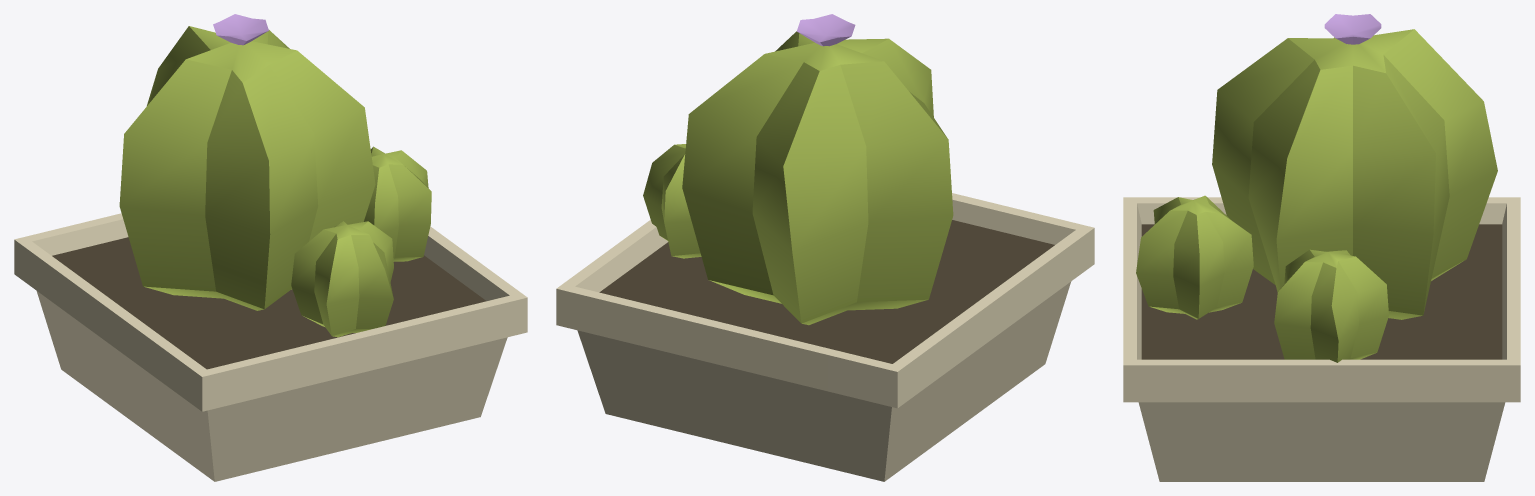
The model's file is plant02_05.gltf.
3 views of the same model, side by side, from view 1: azimuth 30°, elevation 25°; view 2: azimuth 150°, elevation 25°; view 3: azimuth 270°, elevation 25° (orthographic). The views are drawn at different scales.
Visible parts, largest first — view 1: plant02_stage01:pot, pCylinder1, plant02_stage01:dirt, EXTRA, EXTRA1, pCone1; view 2: plant02_stage01:pot, pCylinder1, plant02_stage01:dirt, EXTRA1, pCone1; view 3: pCylinder1, plant02_stage01:pot, plant02_stage01:dirt, EXTRA, EXTRA1, pCone1.
Boxes of the visible parts, box(x1,y1,x2,y2) form: plant02_stage01:pot: box(14, 213, 527, 481); pCylinder1: box(119, 26, 375, 310); plant02_stage01:dirt: box(52, 237, 486, 369); EXTRA: box(291, 221, 393, 337); EXTRA1: box(364, 146, 431, 261); pCone1: box(213, 14, 268, 45); plant02_stage01:pot: box(556, 193, 1094, 481); pCylinder1: box(682, 31, 953, 325); plant02_stage01:dirt: box(599, 220, 1054, 363); EXTRA1: box(643, 144, 701, 258); pCone1: box(796, 14, 855, 46); pCylinder1: box(1212, 29, 1497, 319); plant02_stage01:pot: box(1123, 197, 1520, 481); plant02_stage01:dirt: box(1141, 224, 1502, 359); EXTRA: box(1136, 195, 1253, 319); EXTRA1: box(1274, 249, 1388, 362); pCone1: box(1324, 14, 1381, 44).
Bounding box in the file's own units: 0.019 × 0.0199 × 0.0188.
1 material, 1 textured.
